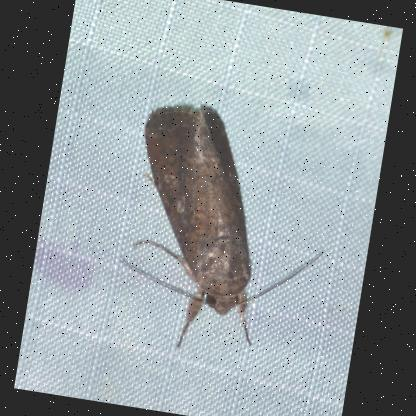Fall Armyworm Moth: (102, 91, 348, 373)
